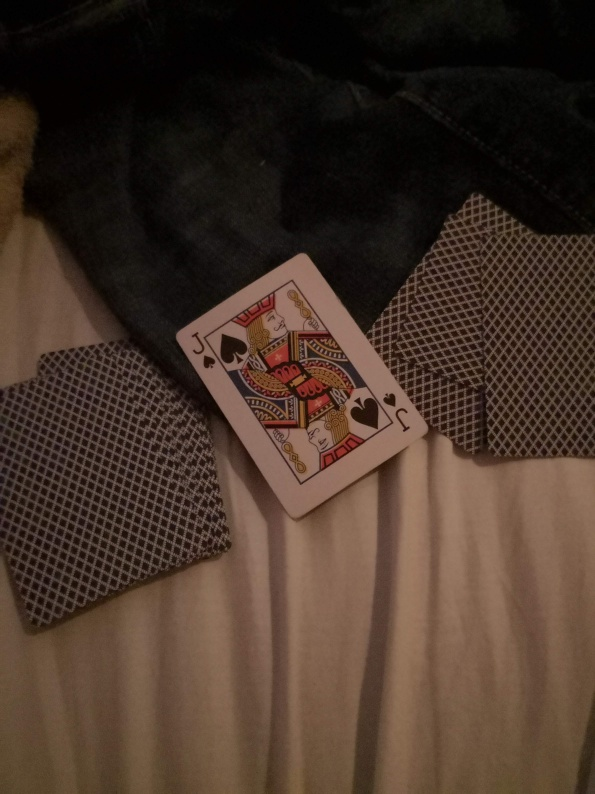jack: (173, 249, 430, 522)
